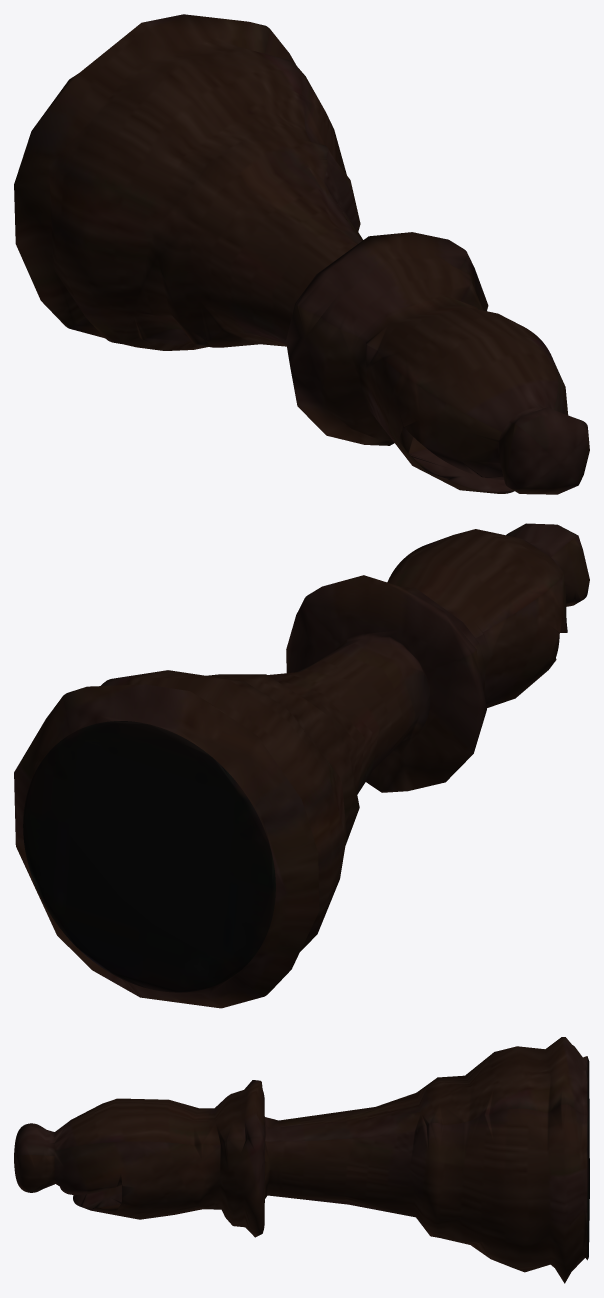
The model's file is bishop4.obj.
3 views of the same model, one above another, from view 1: azimuth 30°, elevation 25°; view 2: azimuth 150°, elevation 25°; view 3: azimuth 270°, elevation 25° (orthographic). The views are drawn at different scales.
Visible parts, largest first — view 1: mmGroup0; view 2: mmGroup0; view 3: mmGroup0.
Part boxes in pixels (x1,y1,x2,y2): mmGroup0: (14,14,589,494); mmGroup0: (14,523,589,1008); mmGroup0: (14,1037,589,1283).
Size of the model in its own units: 4.49 by 4.48 by 10.48.
